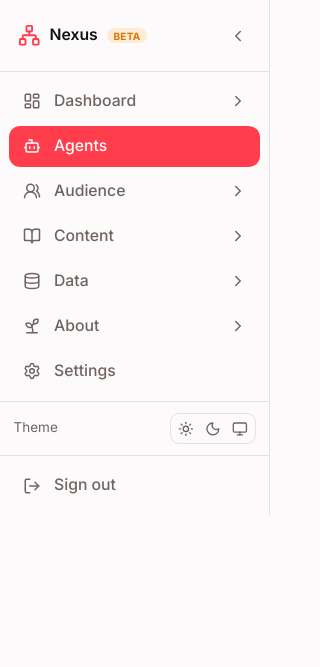
Scenario: Sidebar nested nav › hides a collapsed group's children until its header is clicked
Click the button "Audience": [134, 191] box x1=9 y1=171 x2=260 y2=212
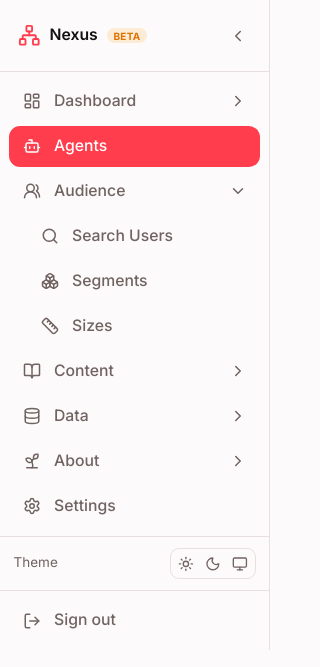
Result: the link "Search Users" is shown at x1=40 y1=226 x2=173 y2=245
